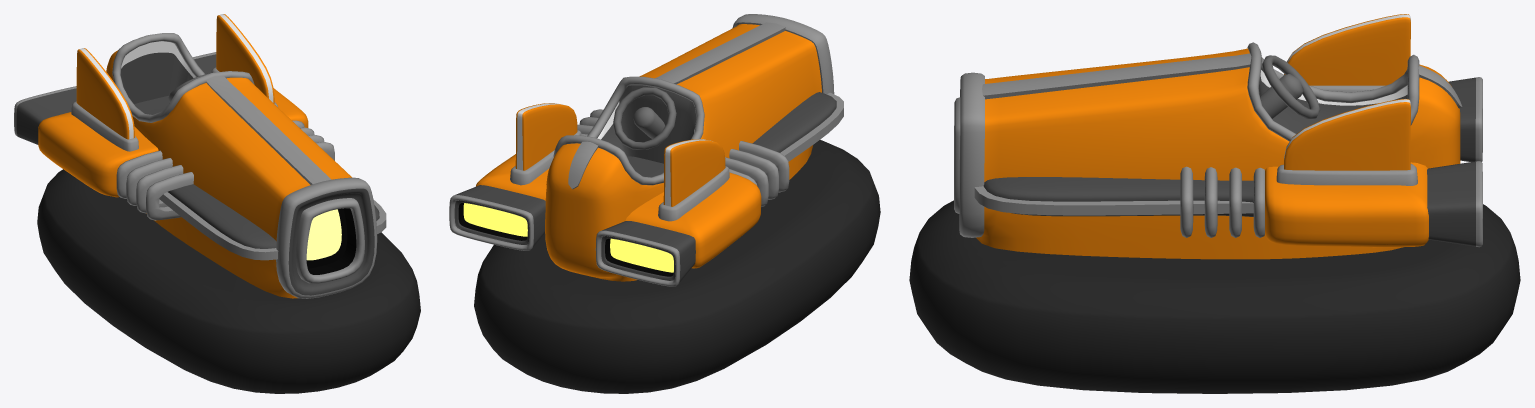
Rendered from mesh_Car_Menu_I.fbx.
3 views of the same model, side by side, from view 1: azimuth 30°, elevation 25°; view 2: azimuth 150°, elevation 25°; view 3: azimuth 270°, elevation 25° (orthographic). The views are drawn at different scales.
Parts seen in each view (by area): view 1: mesh_Car_Menu_I; view 2: mesh_Car_Menu_I; view 3: mesh_Car_Menu_I.
Boxes of the visible parts, x1,y1,x2,y2 form: mesh_Car_Menu_I: [14, 14, 420, 393]; mesh_Car_Menu_I: [449, 14, 880, 393]; mesh_Car_Menu_I: [909, 14, 1520, 393].
Bounding box in the file's own units: 1.79 × 1.53 × 2.97.
